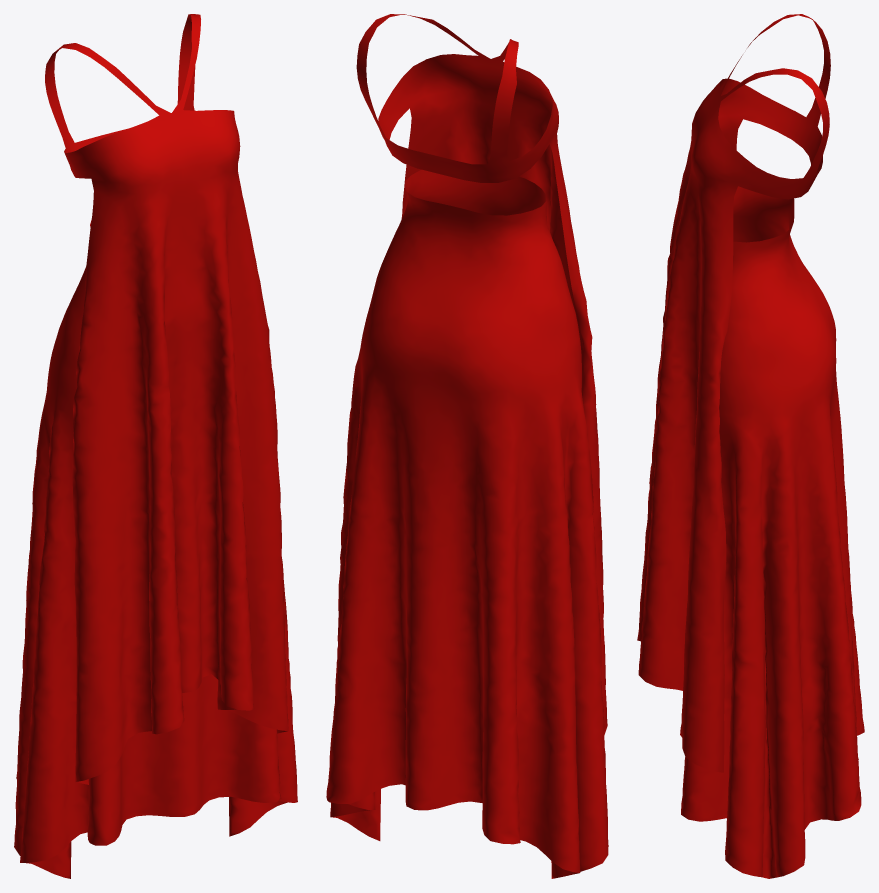
3 renders of one model, left to right at view 1: azimuth 30°, elevation 25°; view 2: azimuth 150°, elevation 25°; view 3: azimuth 270°, elevation 25°, orthographic. The views are drawn at different scales.
Parts seen in each view (by area): view 1: dress_0; view 2: dress_0; view 3: dress_0.
Part boxes in pixels (<box>): dress_0: <box>14,14,297,878</box>; dress_0: <box>326,14,608,878</box>; dress_0: <box>637,14,864,878</box>.
Size of the model in its own units: 0.4992 by 1.46 by 0.3777.
